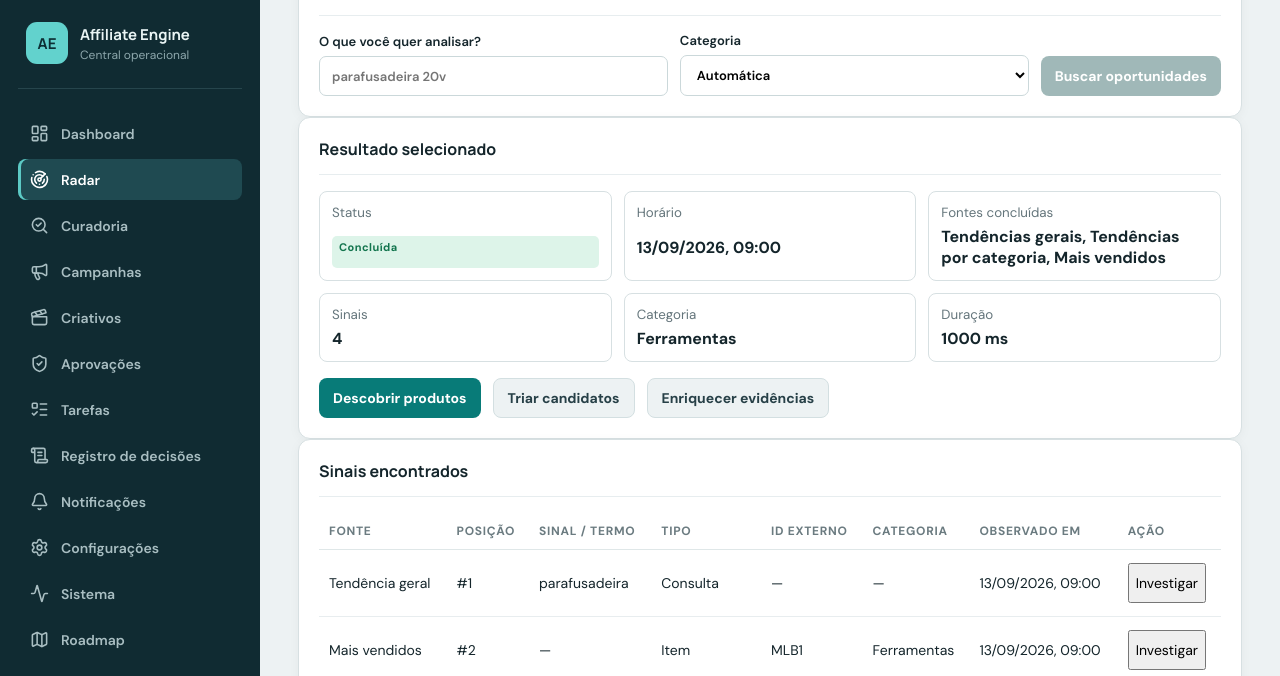
Scenario: Radar › diferencia catálogo disponível de evidência comercial ausente sem tratar a execução como erro
The image size is (1280, 676).
(page scrolled)
Click the button "Enriquecer evidências". click: (738, 398)
box: [646,378,829,418]
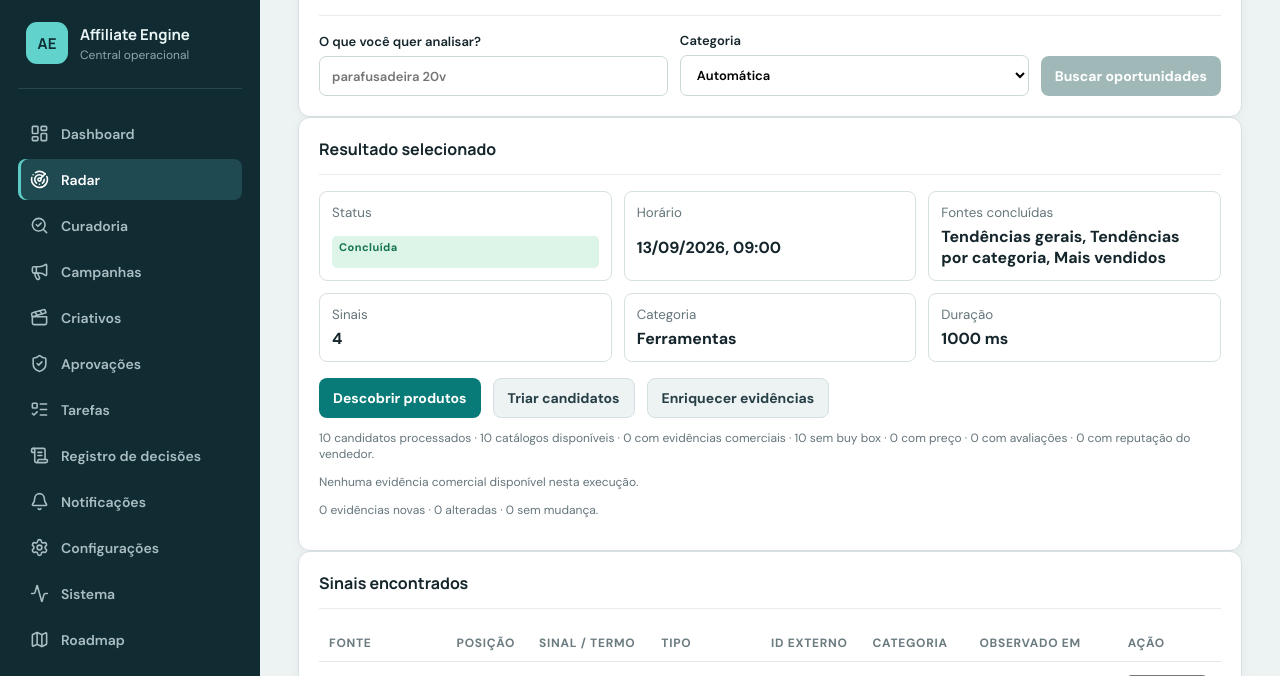
Check: the text "Nenhuma evidência comercial disponível nesta execução." is shown, box [319,474,638,490]
